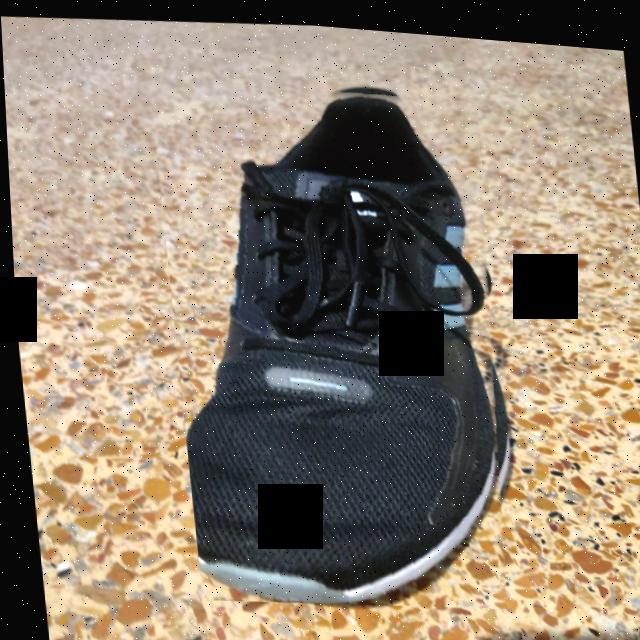shoe: (147, 58, 524, 619)
